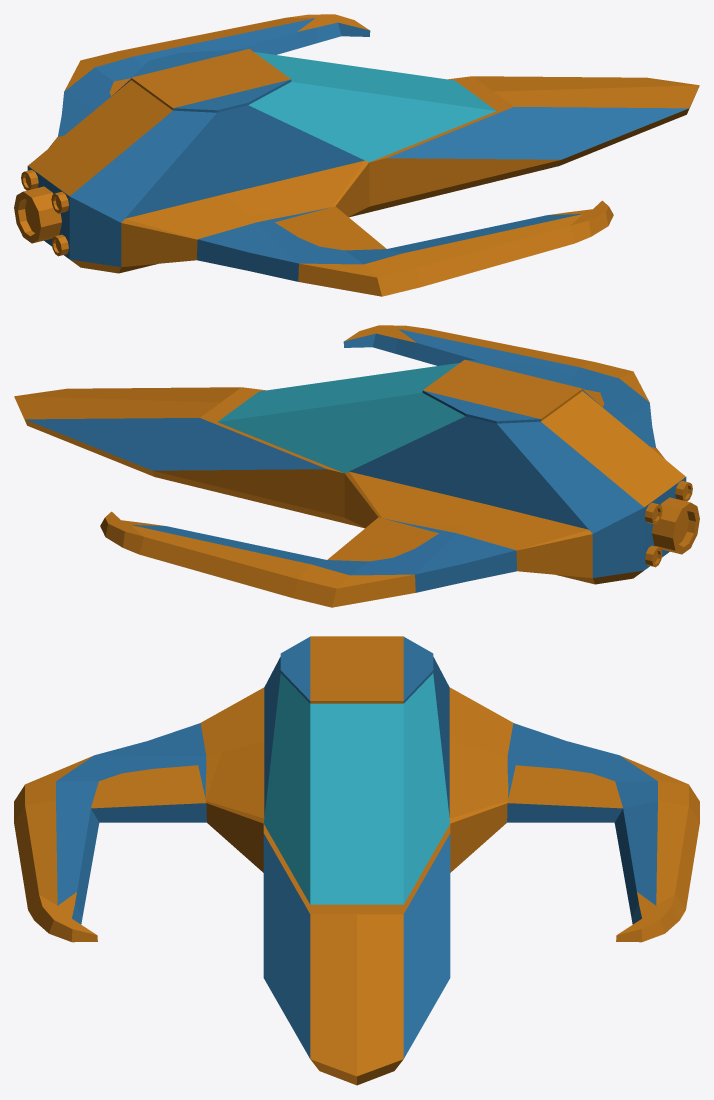
The model's file is playerUnityUpdate.fbx.
3 views of the same model, one above another, from view 1: azimuth 30°, elevation 25°; view 2: azimuth 150°, elevation 25°; view 3: azimuth 270°, elevation 25° (orthographic). The views are drawn at different scales.
Parts seen in each view (by area): view 1: model; view 2: model; view 3: model.
Part boxes in pixels (<box>): model: <box>14,14,699,296</box>; model: <box>14,325,699,607</box>; model: <box>14,636,699,1085</box>.
Bounding box in the file's own units: 1624 × 345 × 1283.
